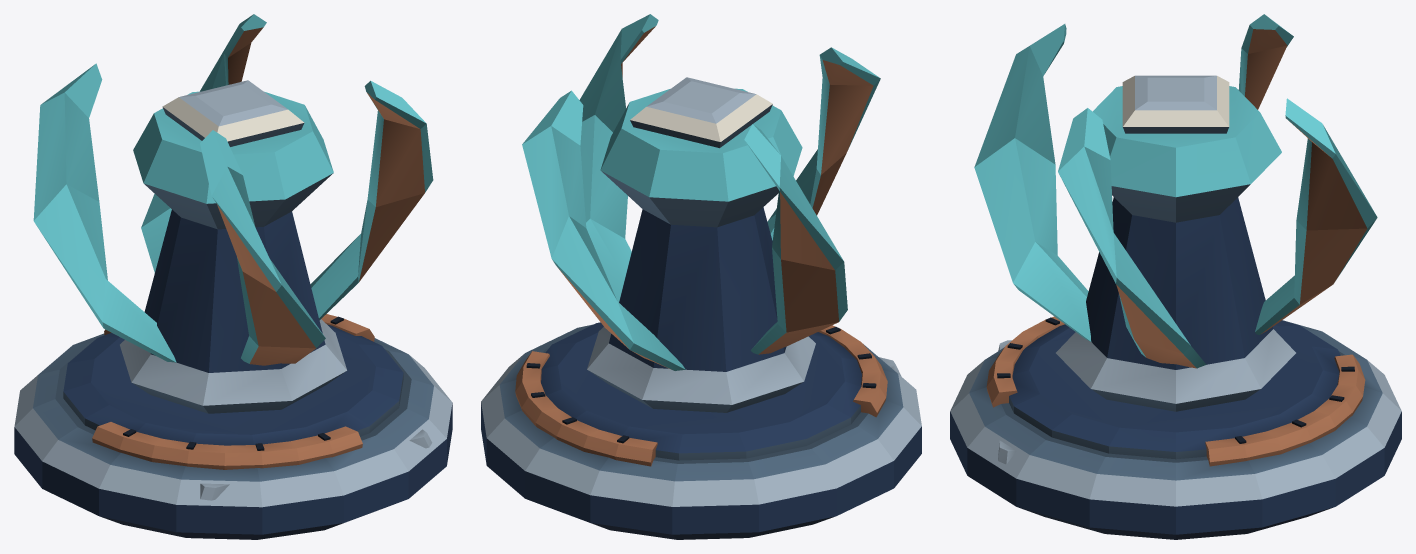
The model's file is quadBender.glb.
The picture shows the model from 3 angles, left to right: view 1: azimuth 30°, elevation 25°; view 2: azimuth 150°, elevation 25°; view 3: azimuth 270°, elevation 25°; orthographic projection. The views are drawn at different scales.
Visible parts, largest first — view 1: quadBender; view 2: quadBender; view 3: quadBender.
Boxes of the visible parts, <box> form: quadBender: <box>14,14,452,539</box>; quadBender: <box>481,14,921,539</box>; quadBender: <box>950,14,1401,539</box>.
Bounding box in the file's own units: 1.02 × 0.998 × 1.02.
